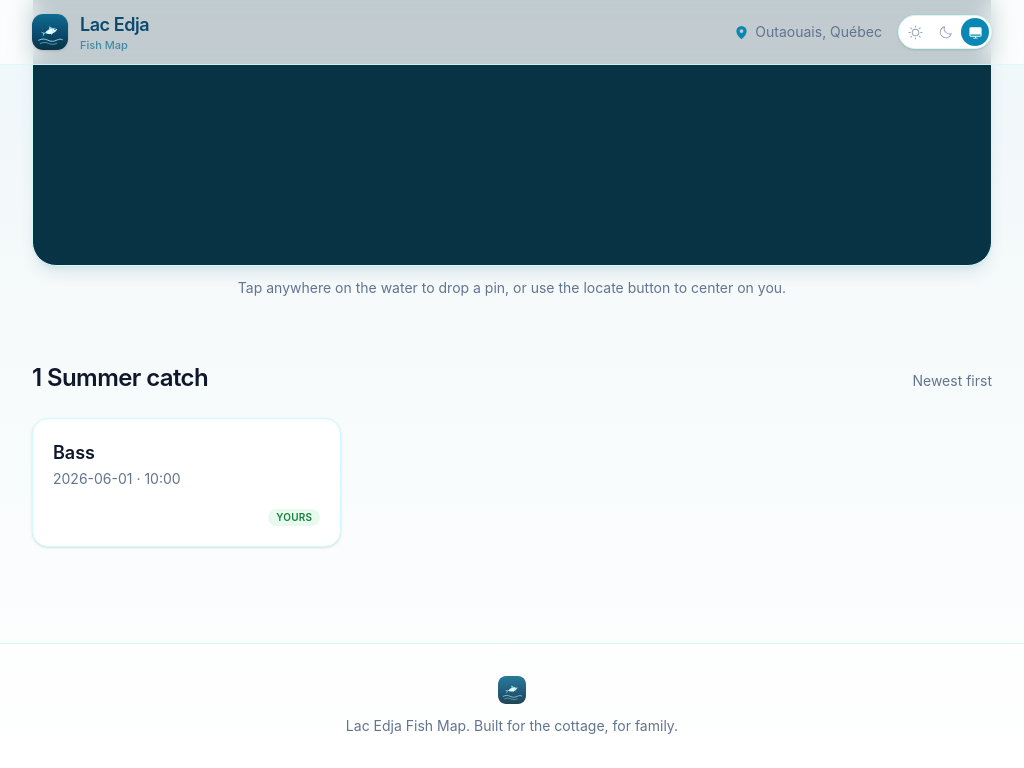
Test: App: performDelete › reachable 404 shows an error toast, does not remove the report, and does not enqueue
(page scrolled)
Expected: the text "Bass" is shown, [53, 442, 95, 462]
Click the text "Bass". click: (187,482)
box: [32, 418, 341, 547]
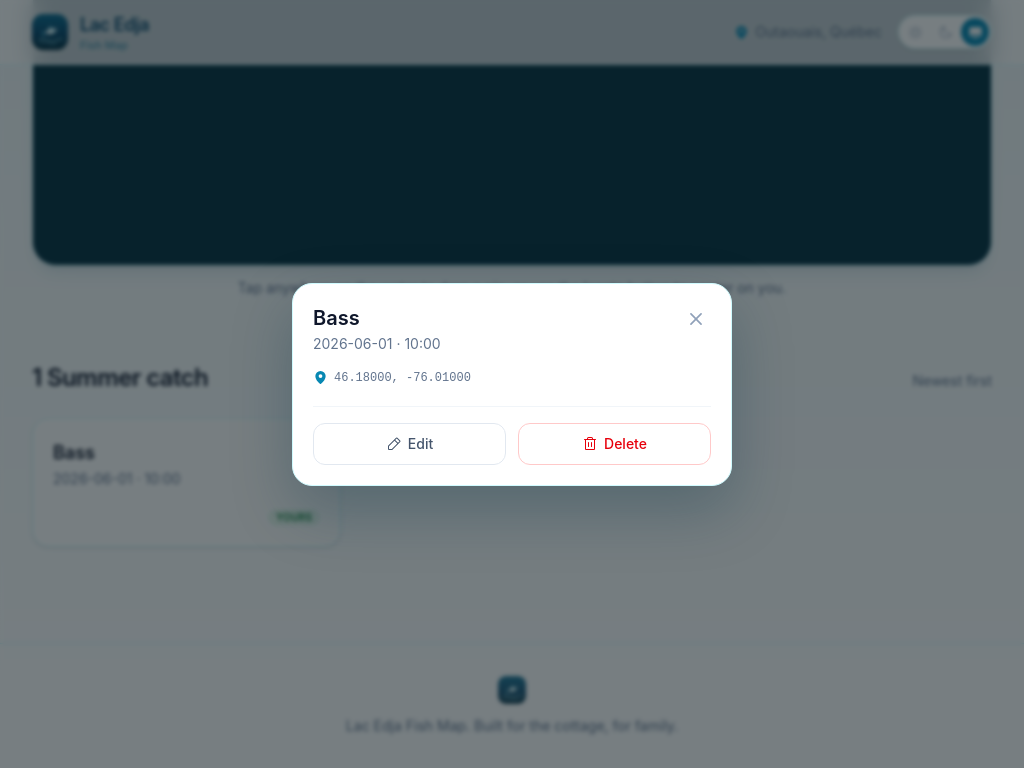
Now the element with class "edja-detail" is shown, box [292, 282, 732, 486]
Now the button "Delete" is shown
Click the button "Delete". click: (614,444)
box: [518, 422, 711, 464]
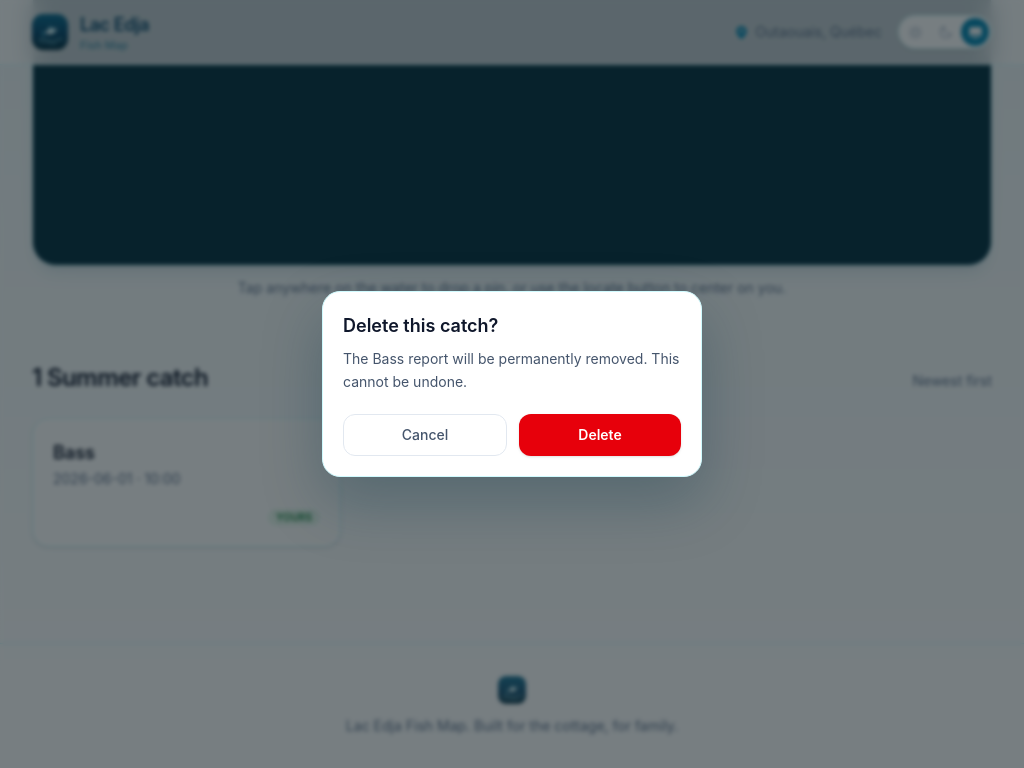
Now the dialog with class "edja-confirm" is shown, box [322, 291, 702, 477]
Now the button "Delete" is shown
Click the button "Delete". click: (600,435)
box: [519, 414, 681, 456]
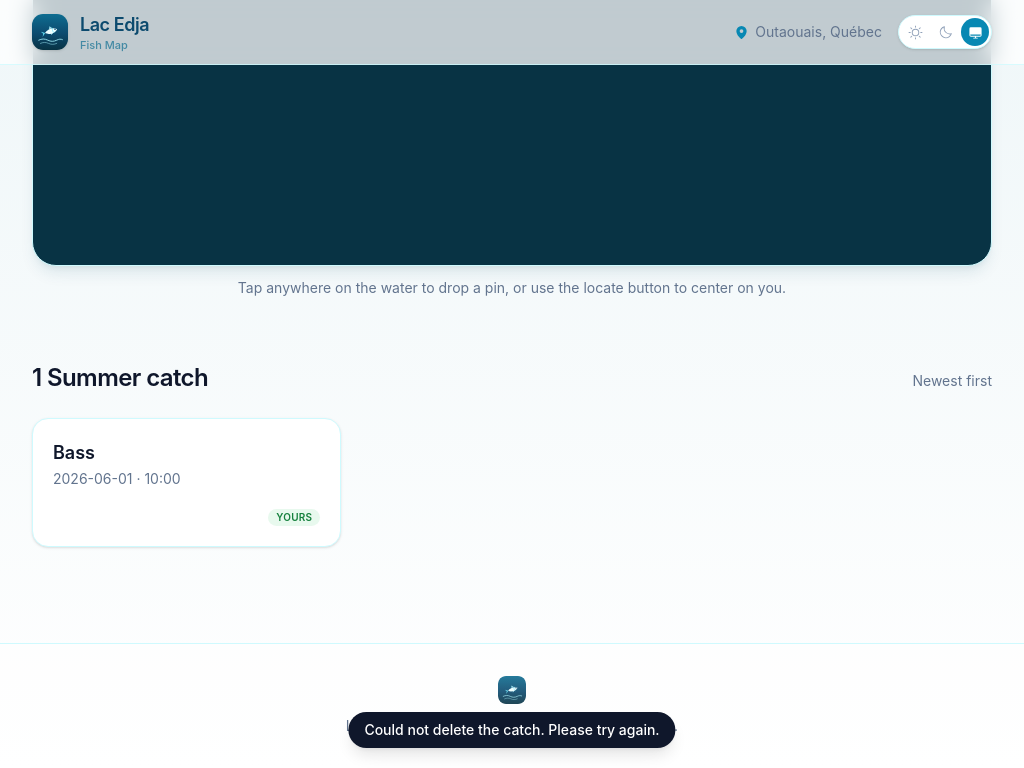
Expected: the heading "Bass" is shown, [53, 442, 95, 462]
Now the text "Could not delete the catch. Please try again." is shown, box [348, 712, 676, 748]
